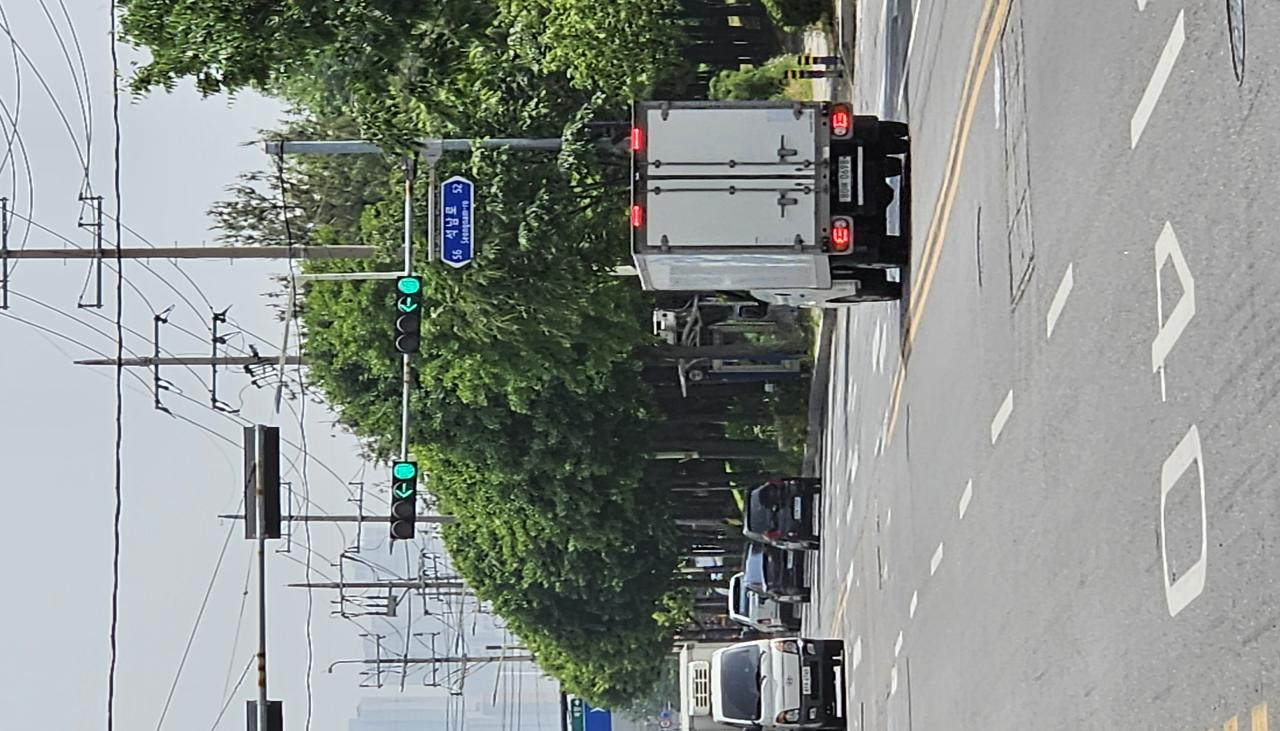Green Light: (329, 298, 353, 318), (572, 302, 596, 320)
Left turn: (547, 299, 572, 322), (302, 299, 329, 316)
